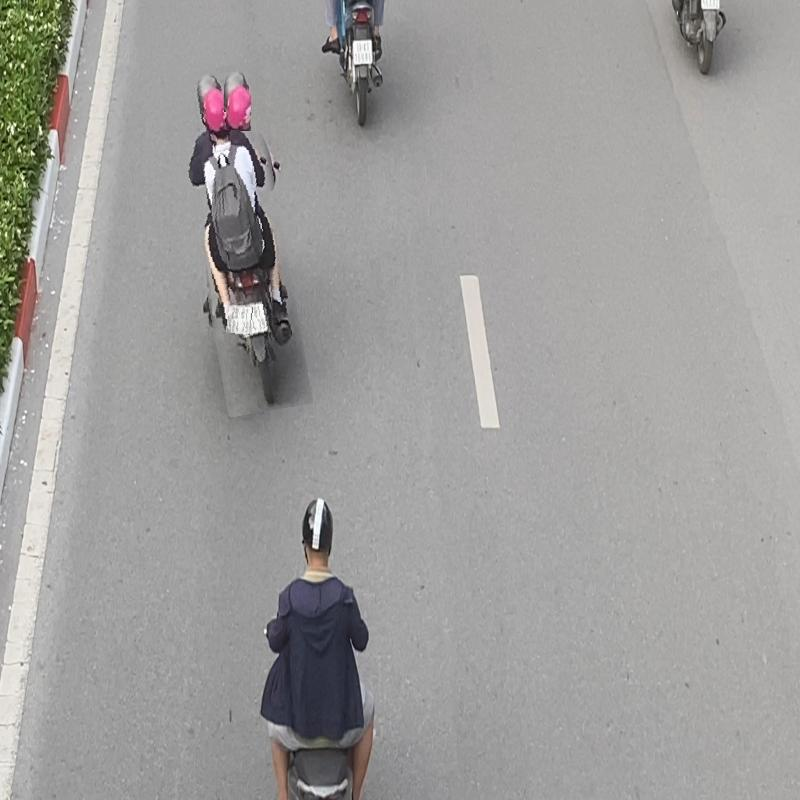helmet: (226, 84, 253, 131), (224, 71, 248, 112)
licenseplate: (227, 304, 253, 334)
motorcyclist: (184, 64, 299, 416)
